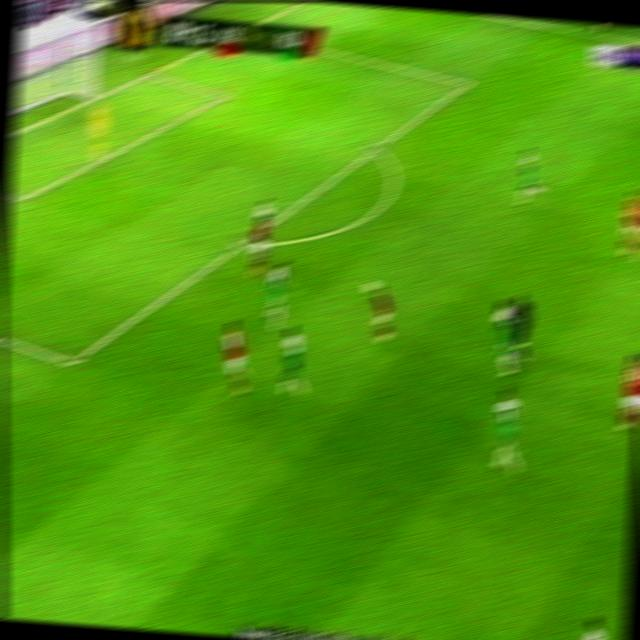bigarea_bottom_inner: (56, 347, 84, 374)
bigarea_top_inner: (453, 73, 475, 93)
bottom_arc_area_intersection: (230, 233, 250, 253)
smallarea_bottom_inner: (9, 182, 36, 210)
smallarea_top_inner: (210, 85, 232, 104)
smallarea_top_outter: (138, 64, 160, 83)
top_arc_area_intersection: (364, 138, 386, 157)
